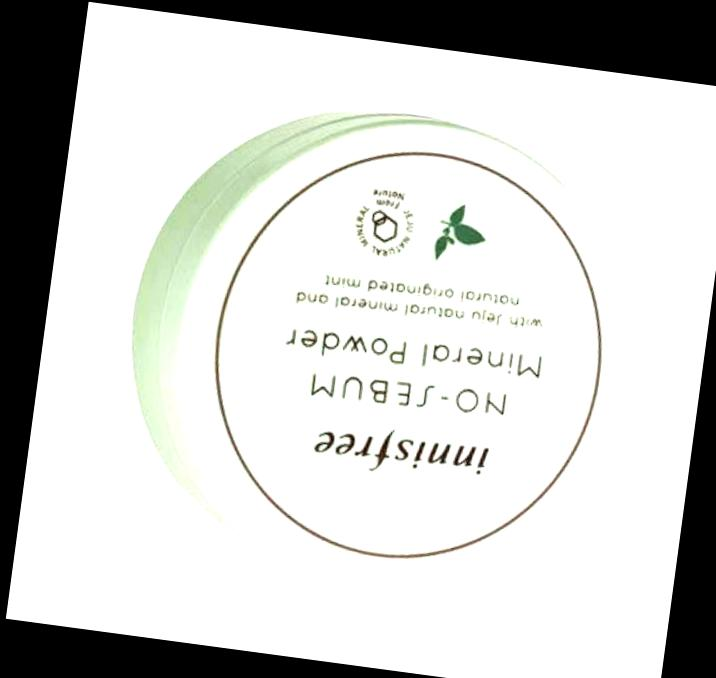cosmetic: (112, 91, 648, 610)
